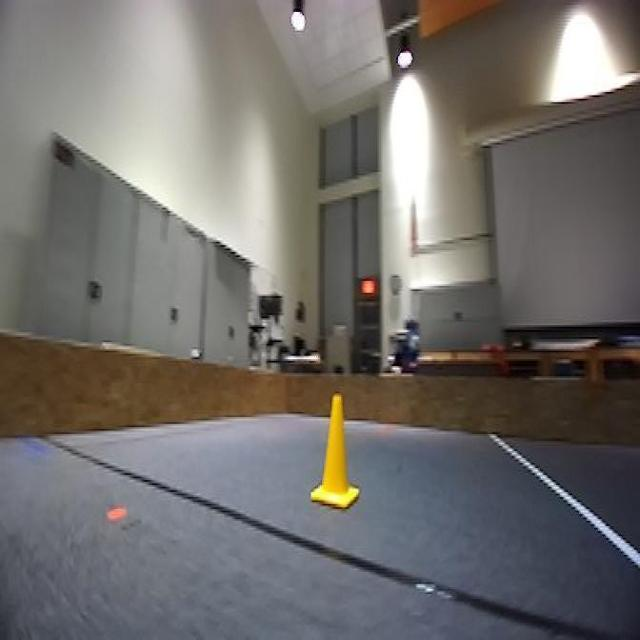frc_cone: (312, 393, 358, 512)
